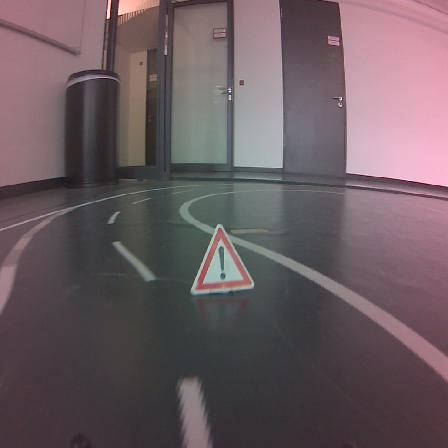ATTENTION: (191, 225, 253, 294)
